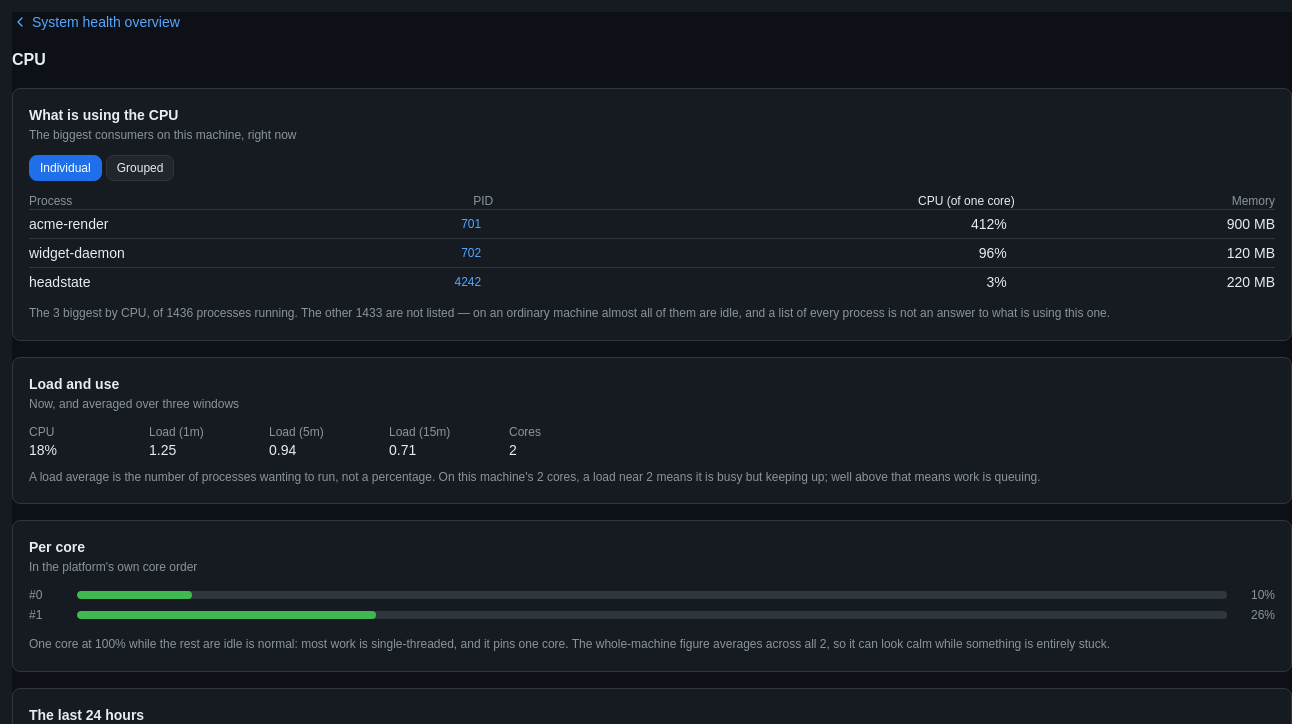
Test: grouping processes by name (#721) › does not count an unreadable CPU figure as zero inside a sum
The width and height of the screenshot is (1292, 724).
Expected: the table is shown, x1=29 y1=193 x2=1275 y2=296
Click the button "Grouped": (140, 168) x1=106 y1=155 x2=174 y2=181
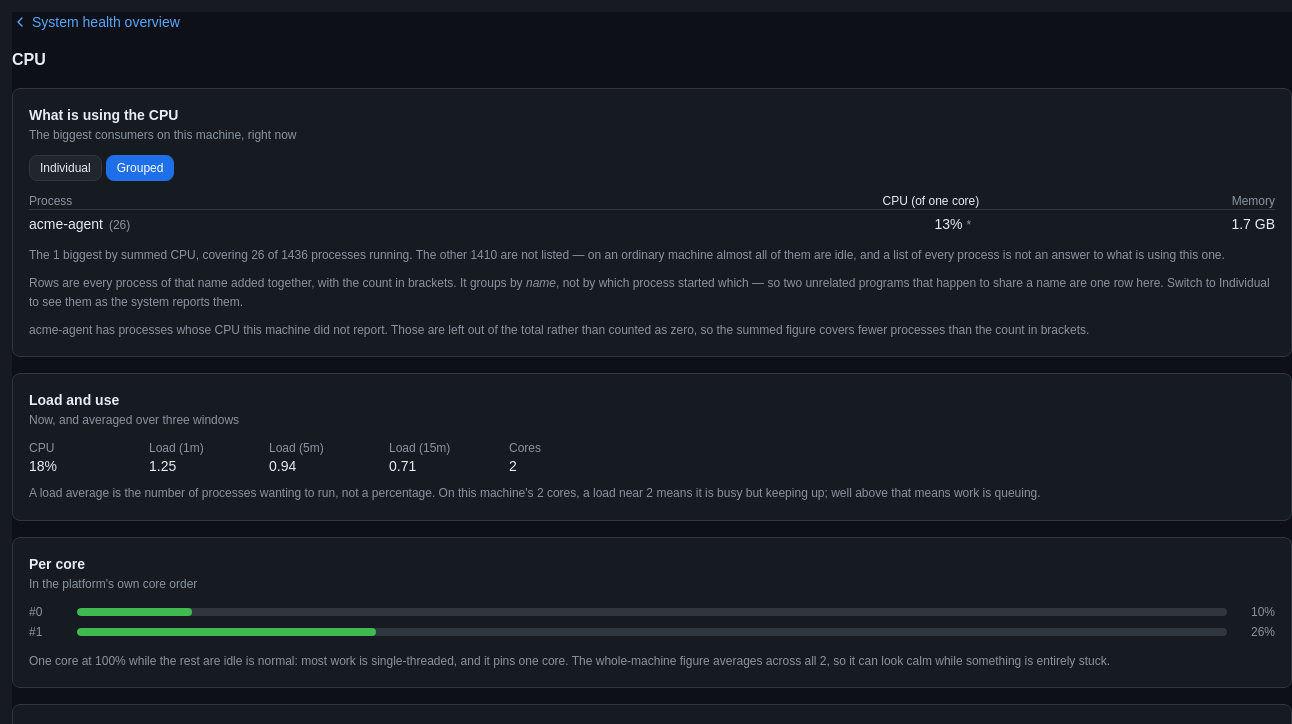
Now the text "left out of the total rather than counted as zero" is shown, box x1=115 y1=322 x2=1089 y2=336
